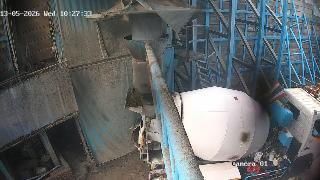cement_mixer_truck: (124, 86, 320, 180)
swing_chute: (123, 34, 169, 95)
